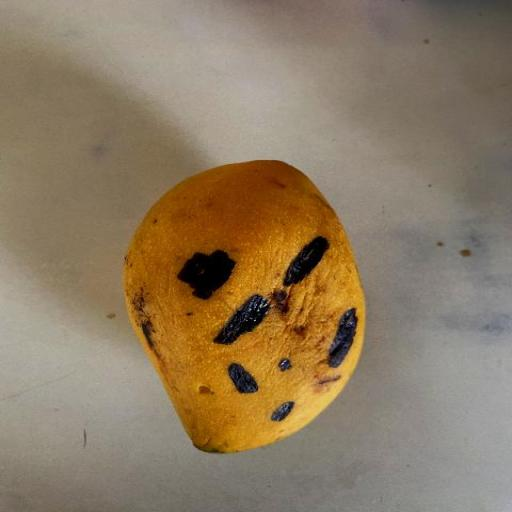mango-overripe: (105, 147, 395, 483)
